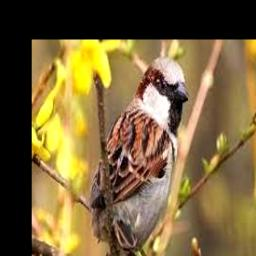Sparrow: (90, 57, 190, 256)
